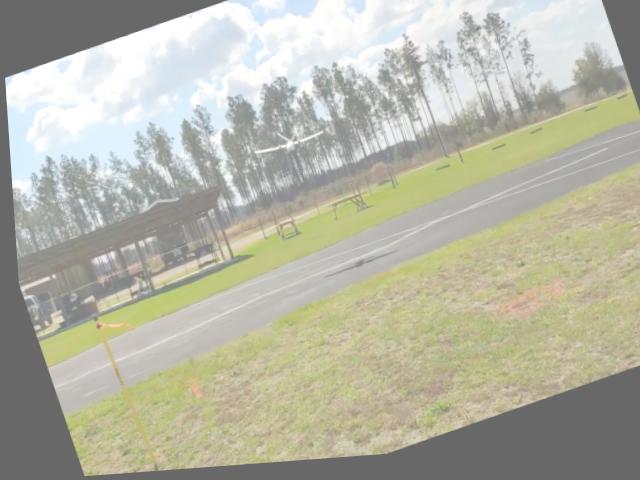plane: (249, 123, 324, 165)
